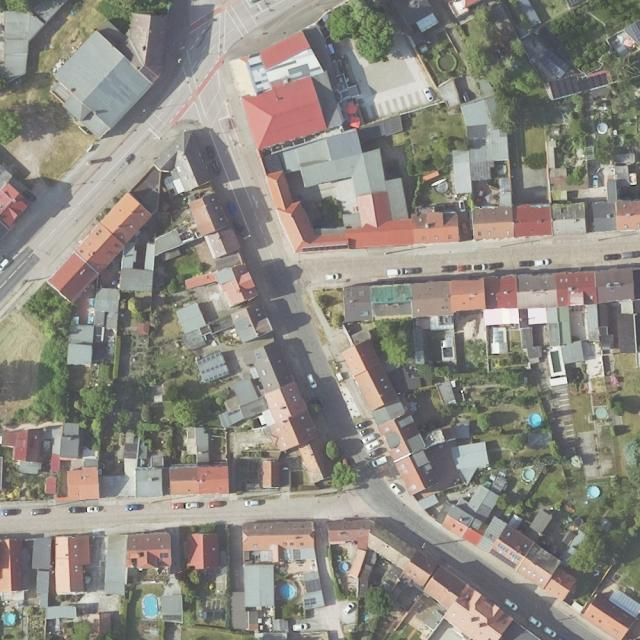PV: (549, 72, 608, 98), (202, 369, 230, 384), (196, 352, 221, 366), (200, 362, 226, 374), (630, 20, 640, 44), (303, 598, 316, 606)
ST: (496, 543, 522, 562), (160, 552, 169, 558)
